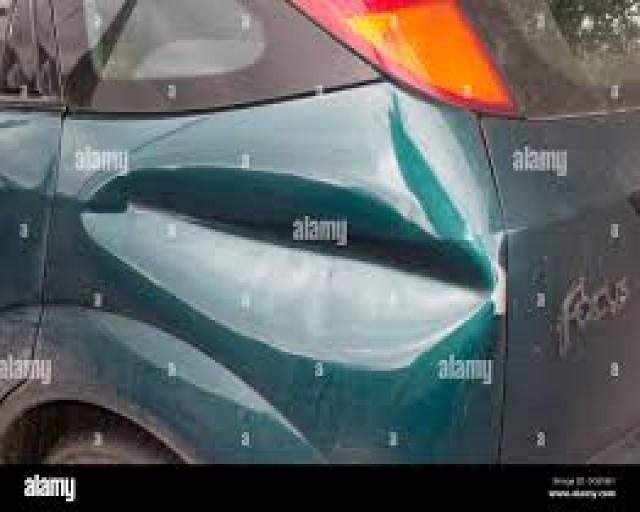dent: (69, 87, 518, 385)
scratch: (476, 219, 514, 339)
